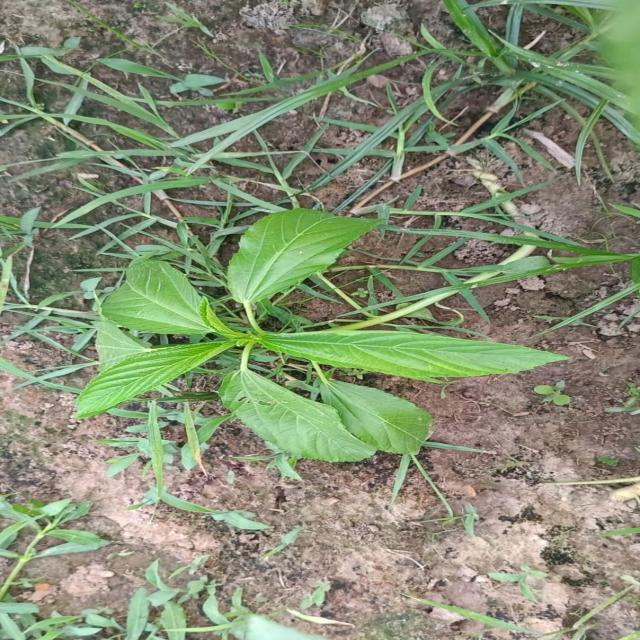plant: (76, 209, 568, 463)
